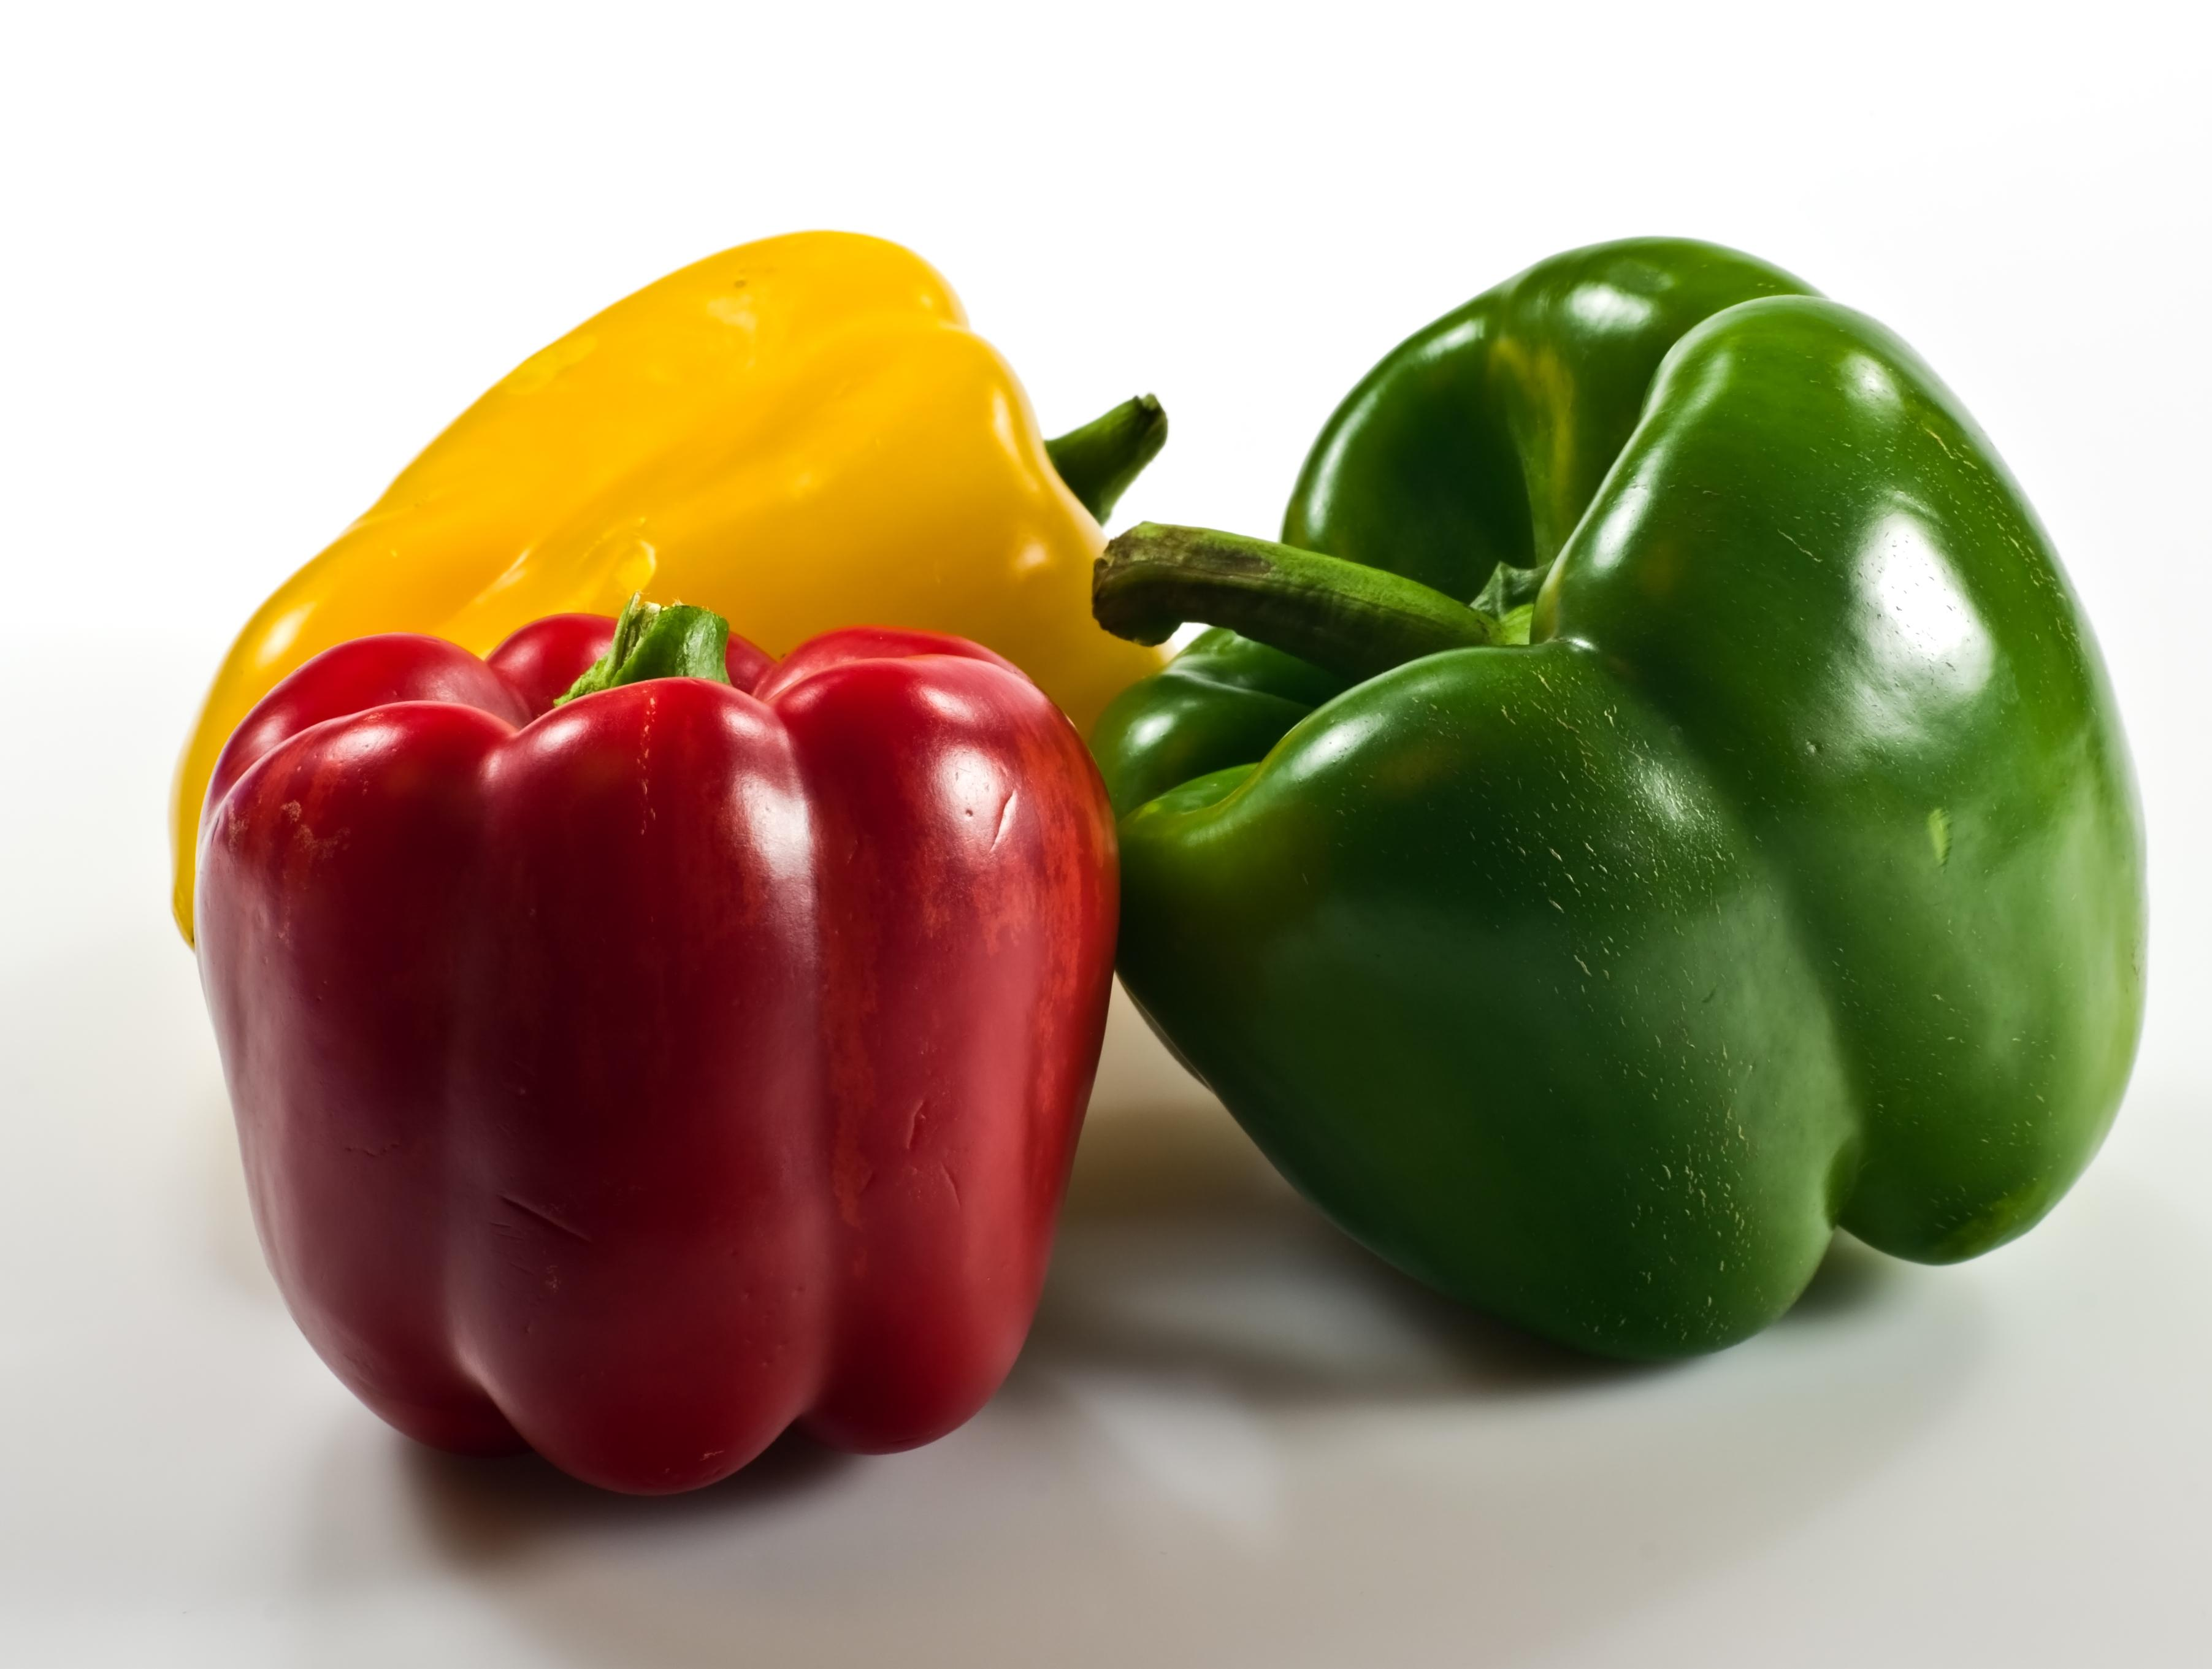capsicum: (1090, 237, 2149, 1366), (188, 593, 1124, 1497), (168, 226, 1180, 950), (1110, 622, 1870, 1366), (1276, 233, 1830, 619)
